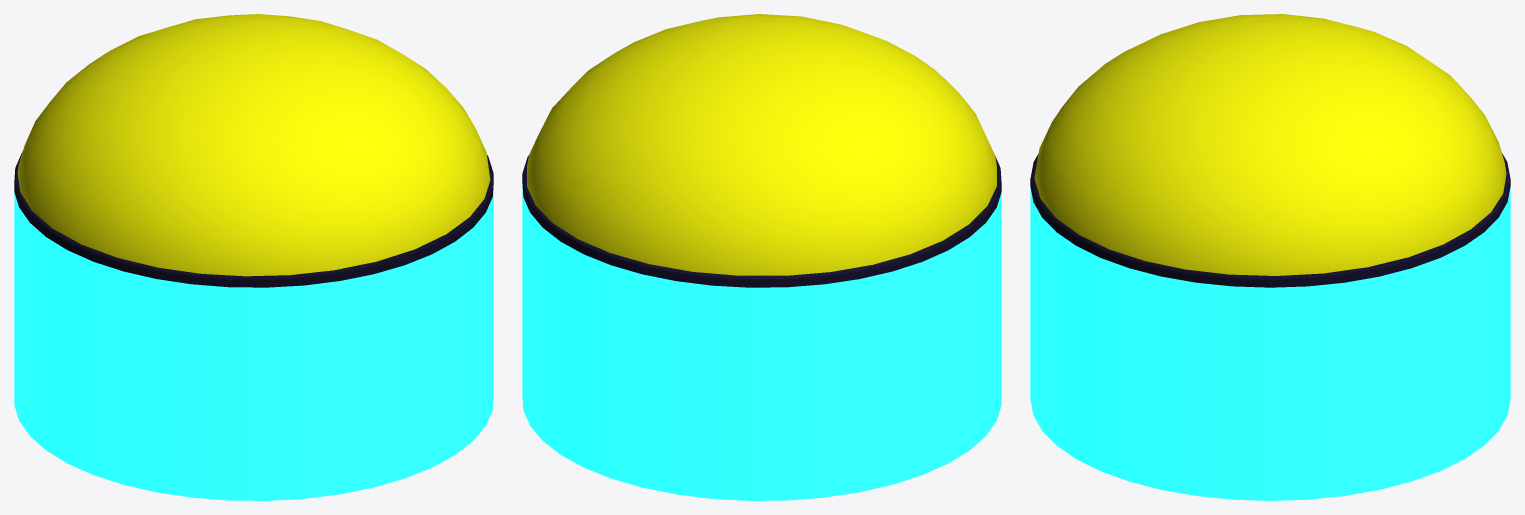
The model's file is MeshBakeLand.fbx.
The picture shows the model from 3 angles, left to right: view 1: azimuth 30°, elevation 25°; view 2: azimuth 150°, elevation 25°; view 3: azimuth 270°, elevation 25°; orthographic projection.
Visible parts, largest first — view 1: Land_mesh_mesh; view 2: Land_mesh_mesh; view 3: Land_mesh_mesh.
Boxes of the visible parts, bbox=[...] form: Land_mesh_mesh: bbox=[14, 14, 493, 500]; Land_mesh_mesh: bbox=[522, 14, 1001, 500]; Land_mesh_mesh: bbox=[1030, 14, 1510, 500].
Size of the model in its own units: 18500 by 15098 by 18500.
